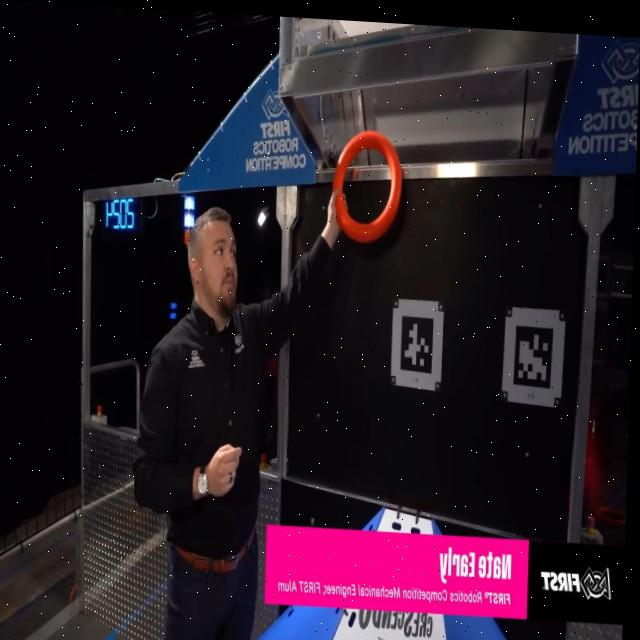note: (333, 125, 405, 242)
